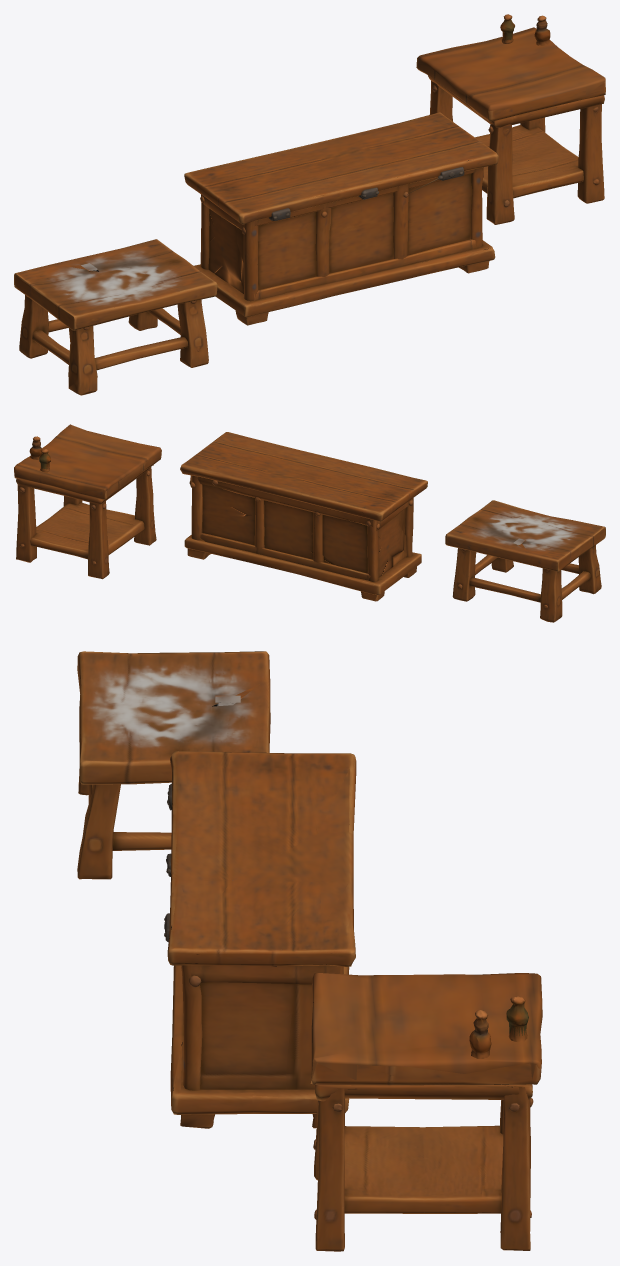
File: sumicio_mesas.glb
The picture shows the model from 3 angles, top to bottom: view 1: azimuth 30°, elevation 25°; view 2: azimuth 150°, elevation 25°; view 3: azimuth 270°, elevation 25°; orthographic projection. The views are drawn at different scales.
Parts seen in each view (by area): view 1: Mostrador, MesaSintesis, MesaPan; view 2: Mostrador, MesaSintesis, MesaPan; view 3: Mostrador, MesaSintesis, MesaPan.
Boxes of the visible parts, x1=… form: Mostrador: x1=184, y1=112, x2=498, y2=325; MesaSintesis: x1=416, y1=14, x2=605, y2=224; MesaPan: x1=14, y1=239, x2=217, y2=395; Mostrador: x1=180, y1=432, x2=427, y2=601; MesaSintesis: x1=14, y1=424, x2=161, y2=579; MesaPan: x1=445, y1=500, x2=605, y2=622; Mostrador: x1=164, y1=751, x2=356, y2=1128; MesaSintesis: x1=310, y1=973, x2=542, y2=1251; MesaPan: x1=77, y1=651, x2=270, y2=879.
Size of the model in its own units: 1 by 0.2346 by 0.4228.
1 material, 1 textured.
